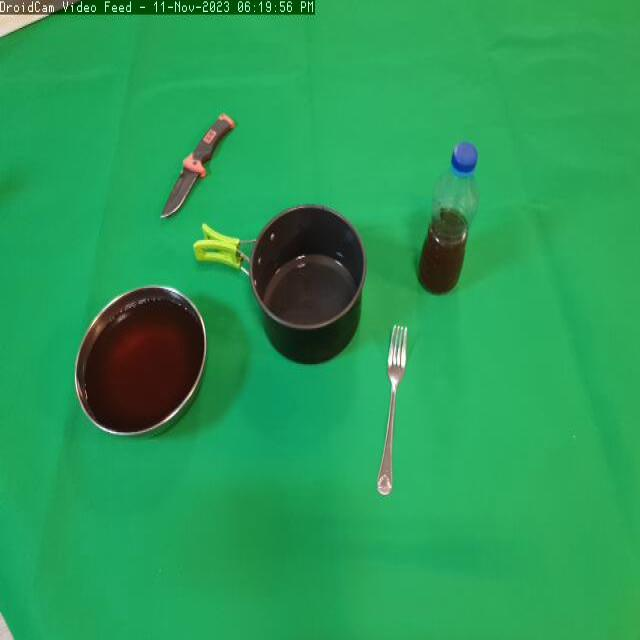fork: (371, 312, 420, 508)
fullbottle: (416, 135, 483, 308)
fullbowl: (70, 276, 214, 447)
knife: (159, 105, 240, 227)
pot: (189, 199, 374, 371)
